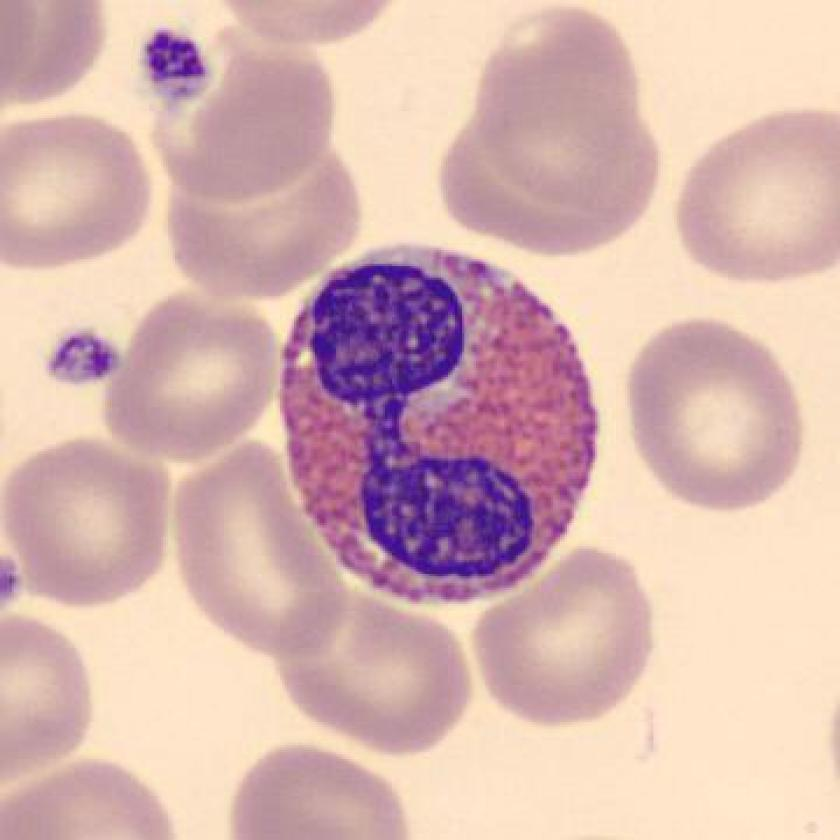eosinophil: (272, 230, 608, 621)
